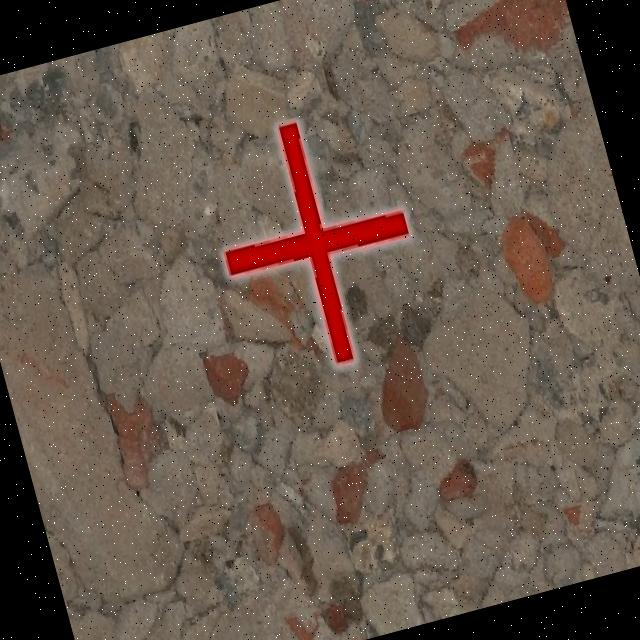x_marker: (194, 100, 436, 385)
